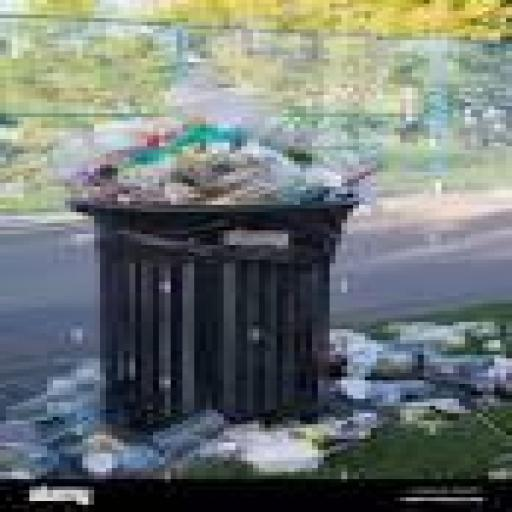poubelle_pleine: (46, 91, 404, 450)
